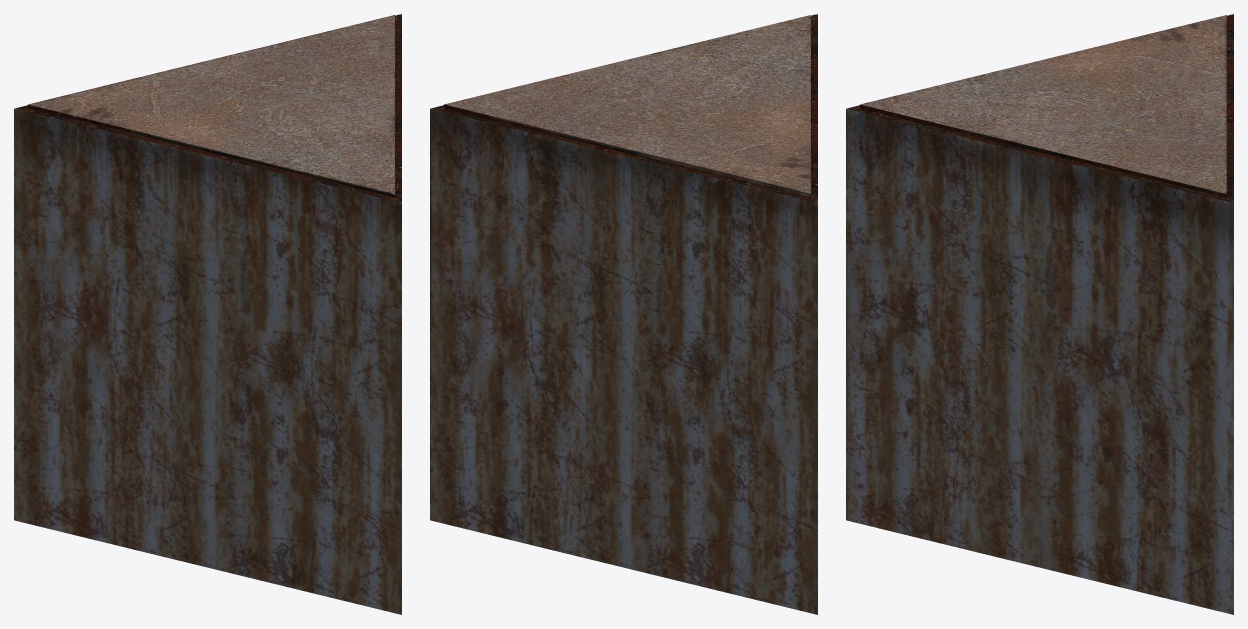
Rendered from metal_foundation_triangle_high_textured.glb.
The picture shows the model from 3 angles, left to right: view 1: azimuth 30°, elevation 25°; view 2: azimuth 150°, elevation 25°; view 3: azimuth 270°, elevation 25°; orthographic projection.
Visible parts, largest first — view 1: Circle; view 2: Circle; view 3: Circle.
Boxes of the visible parts, left/top/right/bottom form: Circle: left=14, top=14, right=401, bottom=614; Circle: left=430, top=14, right=817, bottom=614; Circle: left=846, top=14, right=1233, bottom=614.
Size of the model in its own units: 2 by 2.05 by 1.73.
Materials: 1 (1 with a texture image).
